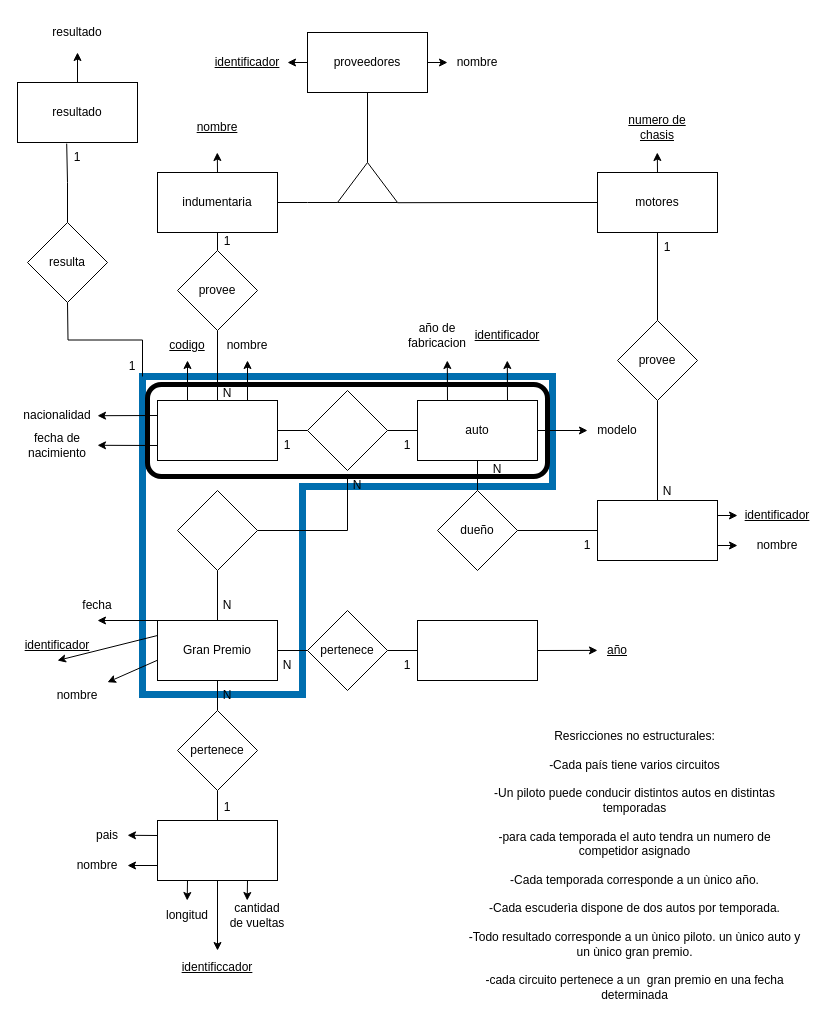
Image size: 827x1019. Some labels were removed from this diagram. The shapes that lost their labels are listed below. From the top down, each one's centre as x and y in pixels, then its label:
the point at 217,430: piloto
the point at 347,430: asignado
the point at 217,530: participa
the point at 657,530: escuderia
the point at 477,650: Temporada
the point at 217,850: circuito
